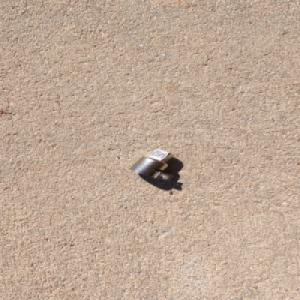MetalPart: (128, 147, 176, 181)
